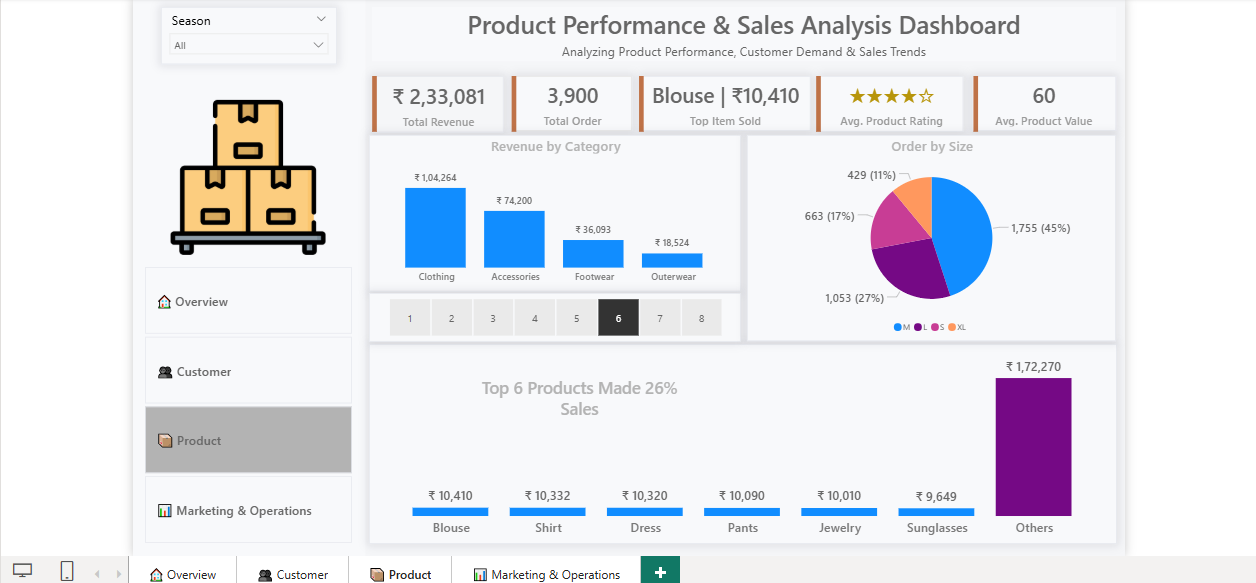

What the dashboard file says about the page in this screenshot:
{"tool":"powerbi","page":{"name":"📦    Product","canvas":[1280,720],"ordinal":2},"visuals":[{"type":"shape","box":[0,0,300.2,720.5],"z":0},{"type":"pageNavigator","box":[15.5,347.1,267.1,357.4],"z":1000},{"type":"image","box":[15.6,126.1,266.5,209.8],"z":2000},{"type":"textbox","title":"Product Performance & Sales Analysis Dashboard","box":[308.4,11.6,960,74],"z":3000},{"type":"card","fields":{"Values":["Measure_Table.Total Revenue"]},"box":[308.6,100,170,72.9],"z":4000},{"type":"shape","box":[302,100,19.4,72],"z":5000},{"type":"card","fields":{"Values":["Measure_Table.Total Order"]},"box":[490.2,100,154.3,71.4],"z":6000},{"type":"shape","box":[483,100,18,72],"z":7000},{"type":"card","fields":{"Values":["Overview Measure.Top Item Sold"]},"box":[656.1,100,218.6,71.4],"z":8000},{"type":"shape","box":[647,100,19,72.3],"z":9000},{"type":"card","fields":{"Values":["Overview Measure.Avg. Product Rating"]},"box":[1082.9,100,185.7,71.4],"z":10000},{"type":"shape","box":[1077.1,100,20,72],"z":11000},{"type":"card","fields":{"Values":["Overview Measure.Avg. Product Rating"]},"box":[886.3,100,185,72],"z":12000},{"type":"shape","box":[875,100,19.4,72],"z":13000},{"type":"columnChart","title":"Revenue by Category","fields":{"Category":["dim_Category.@Category"],"Y":["Measure_Table.Total Revenue"]},"box":[304.6,177.2,480.4,202.1],"z":14000},{"type":"columnChart","fields":{"Category":["Pseudo Product Name.@Product_Name"],"Y":["Overview Measure.Top N Product"]},"box":[304.7,446.5,965.2,258],"z":15000},{"type":"slicer","fields":{"Values":["Top N Selection.Value"]},"box":[304.6,380.8,480.4,63],"z":16000},{"type":"textbox","box":[435,477.4,282.7,98.1],"z":17000},{"type":"pieChart","title":"Order by Size","fields":{"Category":["FSales.Size"],"Y":["Overview Measure.Total Order"]},"box":[792.3,177.2,476.2,266.5],"z":18000},{"type":"slicer","fields":{"Values":["dim_Season.@Season"]},"box":[36.1,11.6,227.1,73.5],"z":19000}]}

Visuals, with their boxes on the page's 1280x720 design canvas (x1, y1, x2, y2). These are canvas units, not pixel positions in the 1256x583 screenshot, which may show the page scaled, cropped or inside an application window:
shape: box=[0, 0, 300, 720]
pageNavigator: box=[16, 347, 283, 704]
image: box=[16, 126, 282, 336]
"Product Performance & Sales Analysis Dashboard" textbox: box=[308, 12, 1268, 86]
card - Measure_Table.Total Revenue: box=[309, 100, 479, 173]
shape: box=[302, 100, 321, 172]
card - Measure_Table.Total Order: box=[490, 100, 644, 171]
shape: box=[483, 100, 501, 172]
card - Overview Measure.Top Item Sold: box=[656, 100, 875, 171]
shape: box=[647, 100, 666, 172]
card - Overview Measure.Avg. Product Rating: box=[1083, 100, 1269, 171]
shape: box=[1077, 100, 1097, 172]
card - Overview Measure.Avg. Product Rating: box=[886, 100, 1071, 172]
shape: box=[875, 100, 894, 172]
"Revenue by Category" columnChart: box=[305, 177, 785, 379]
columnChart - Pseudo Product Name.@Product_Name x Overview Measure.Top N Product: box=[305, 446, 1270, 704]
slicer - Top N Selection.Value: box=[305, 381, 785, 444]
textbox: box=[435, 477, 718, 576]
"Order by Size" pieChart: box=[792, 177, 1268, 444]
slicer - dim_Season.@Season: box=[36, 12, 263, 85]
